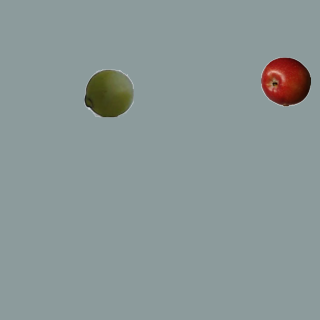Apple Braeburn: (260, 56, 310, 106)
Grape White 4: (83, 67, 133, 117)
